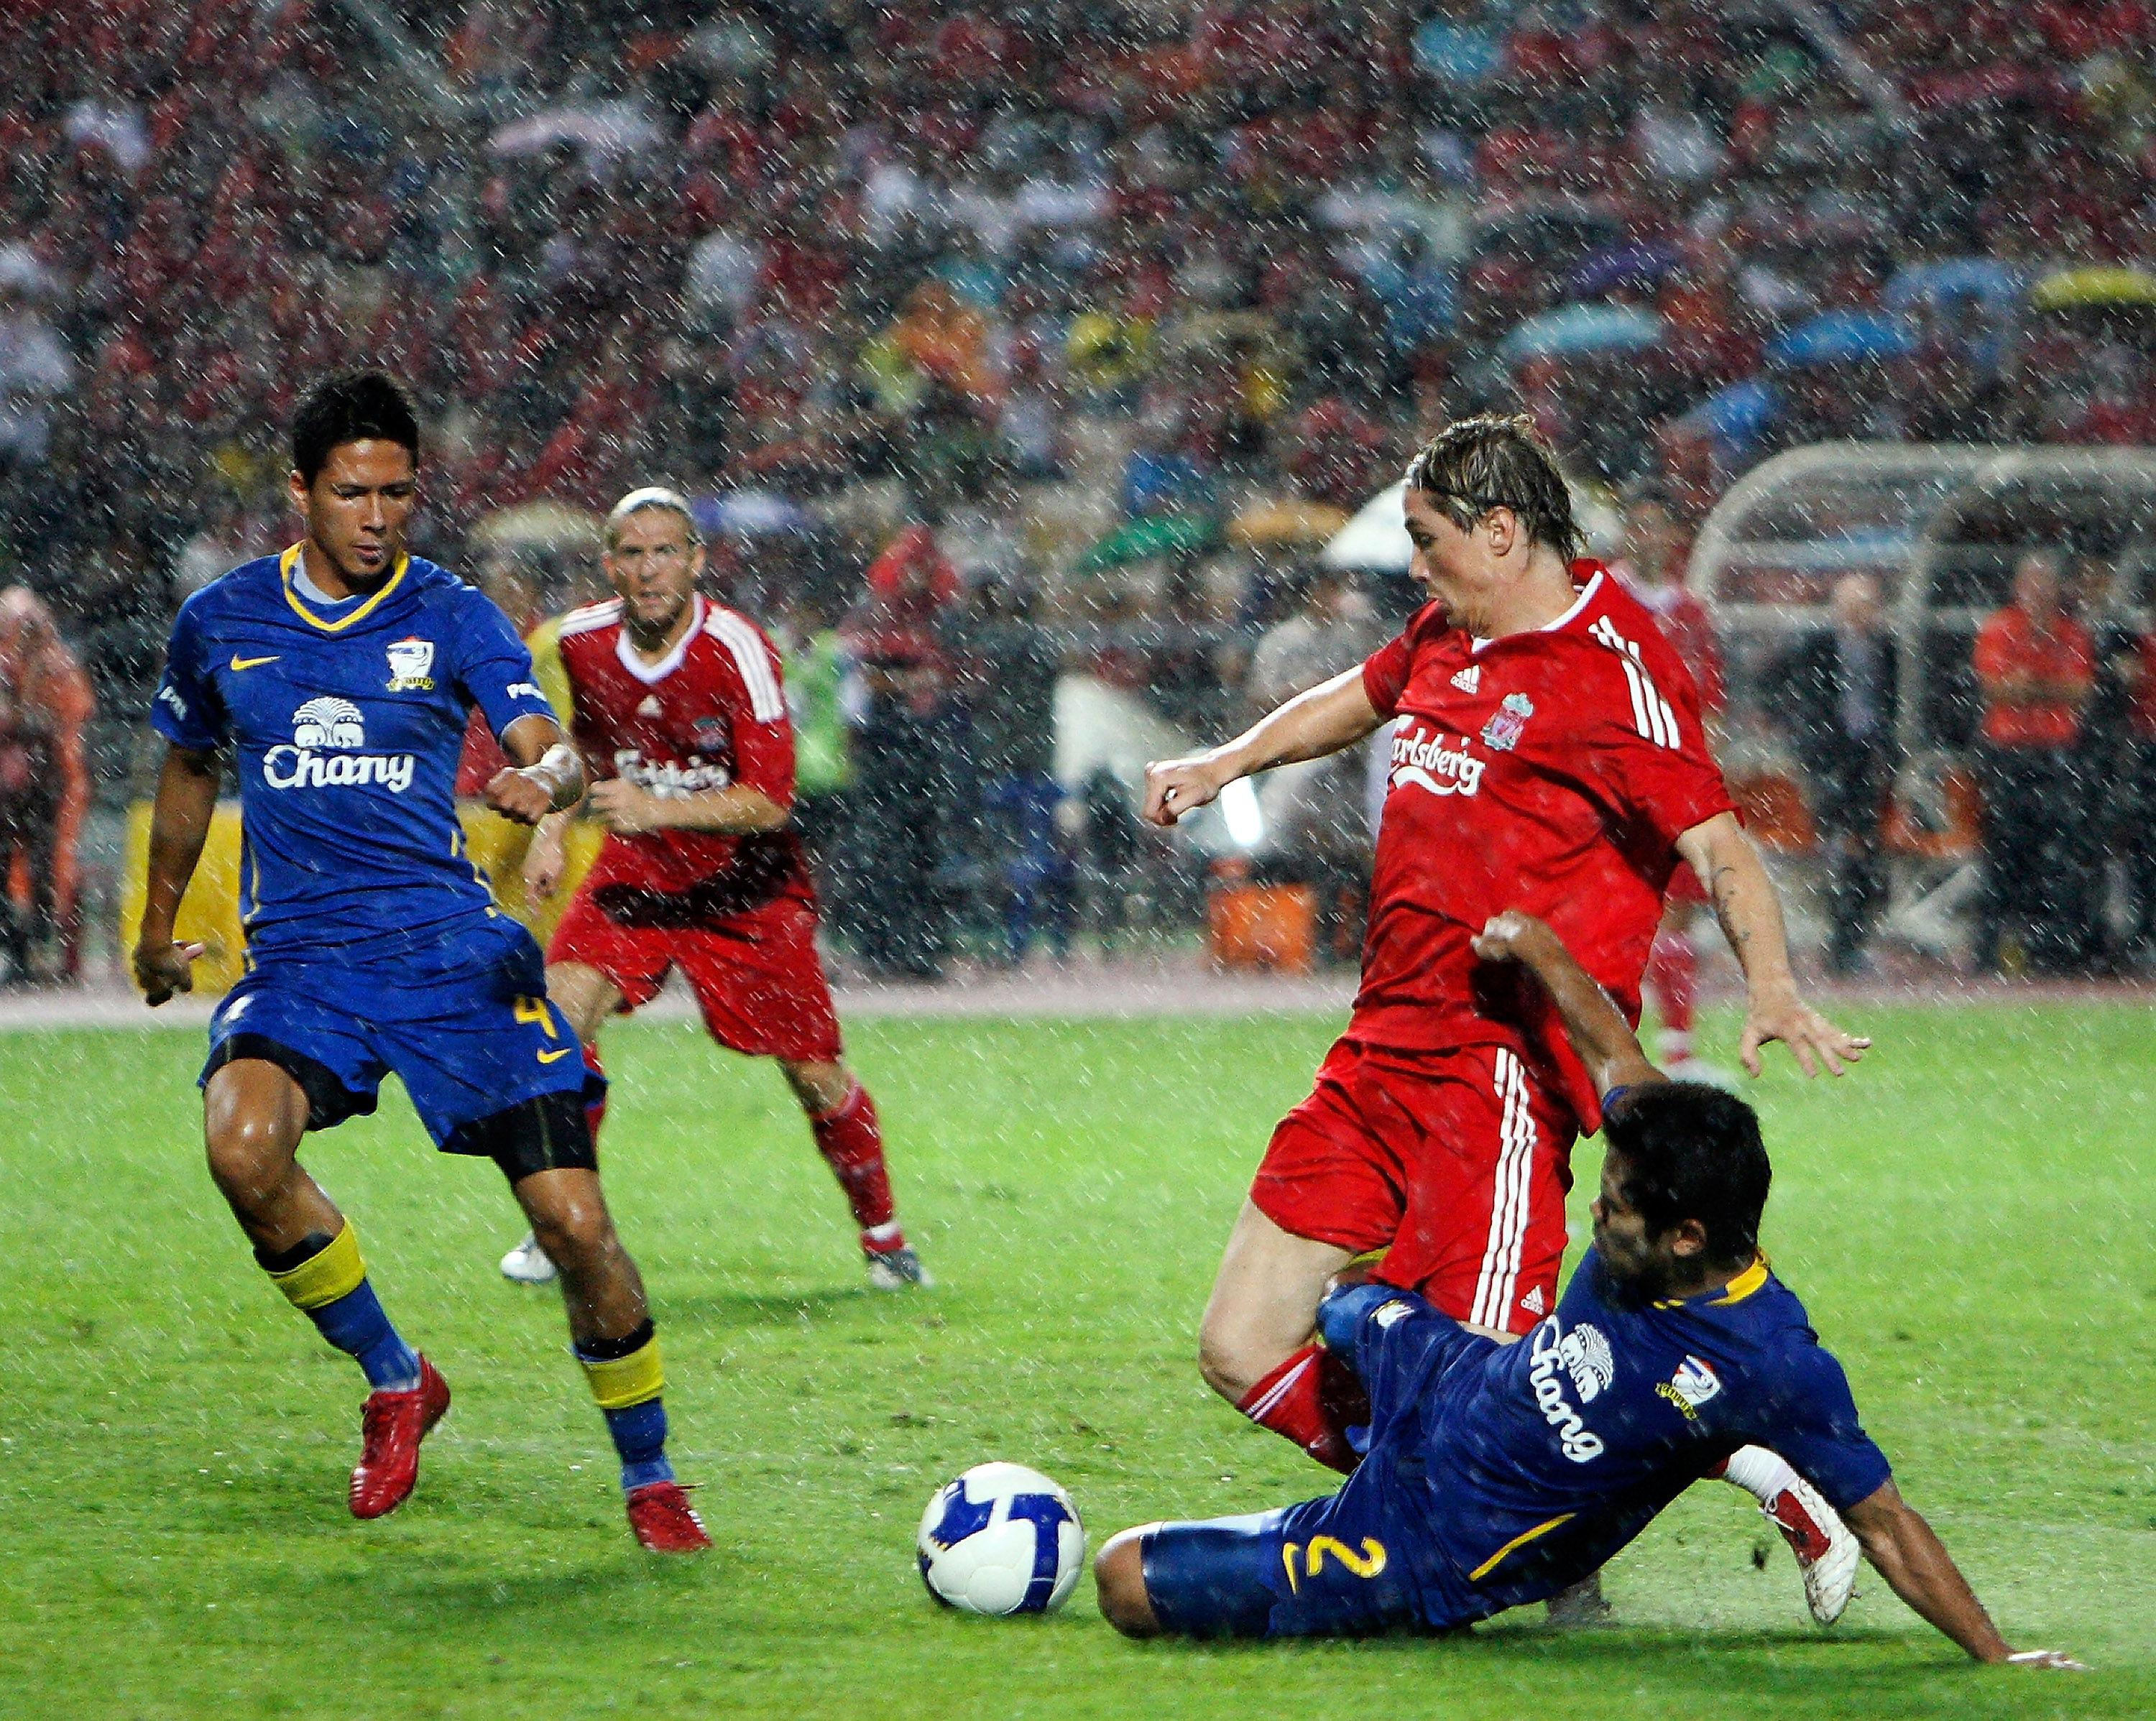down: (1066, 904, 2065, 1684)
up: (1161, 383, 1859, 1449), (121, 364, 732, 1581), (479, 472, 957, 1293)
